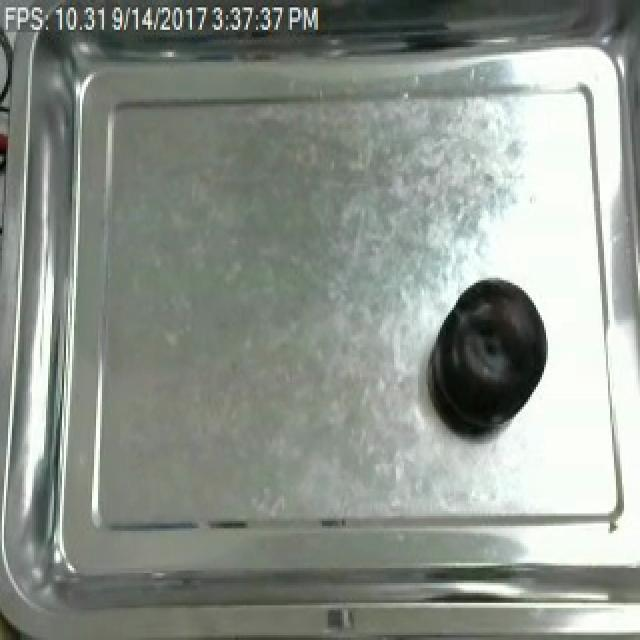Fruit: (426, 270, 556, 437)
